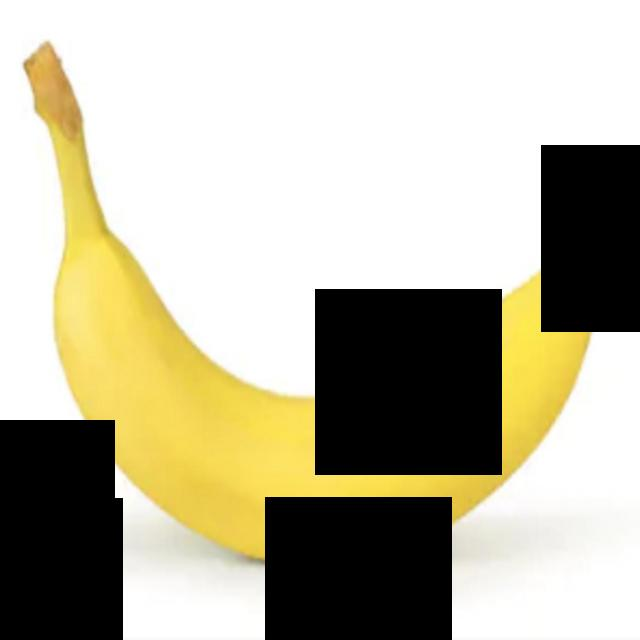banana: (13, 0, 638, 637)
